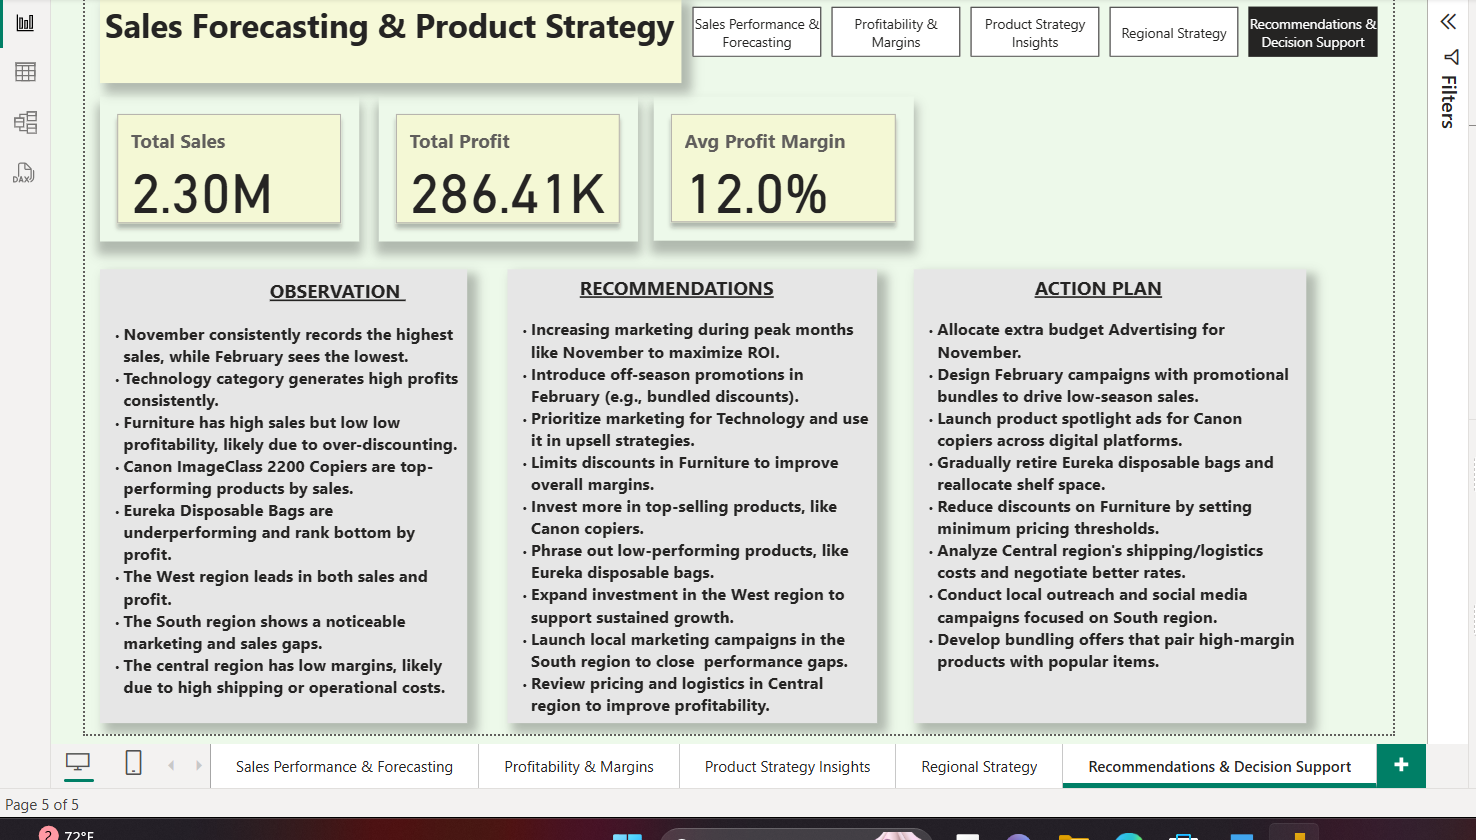

Layout of this report page (visuals, bound fields, positions):
{"tool":"powerbi","page":{"name":"Recommendations & Decision Support","canvas":[1280,720],"ordinal":4},"visuals":[{"type":"cardVisual","fields":{"Data":["Superstore-Cleaned_Data.Total Sales"]},"box":[15.1,96.1,253.9,141.3],"z":0},{"type":"cardVisual","fields":{"Data":["Superstore-Cleaned_Data.Total Profit"]},"box":[286.8,96.1,253.9,141.3],"z":1000},{"type":"cardVisual","fields":{"Data":["Superstore-Cleaned_Data.Avg Profit Margin"]},"box":[556.4,96.6,254.3,140.6],"z":2000},{"type":"textbox","box":[14.7,0,568.6,83.2],"z":3000},{"type":"pageNavigator","box":[594.2,8.2,671,49.4],"z":4000},{"type":"textbox","box":[14.7,265.4,359.5,443.9],"z":5000},{"type":"textbox","box":[413.3,265.4,362,443.9],"z":6000},{"type":"textbox","box":[810.7,265.4,384,443.9],"z":7000}]}

Visuals, with their boxes on the page's 1280x720 design canvas (x1, y1, x2, y2). These are canvas units, not pixel positions in the 1476x840 screenshot, which may show the page scaled, cropped or inside an application window:
cardVisual - Superstore-Cleaned_Data.Total Sales: (x1=15, y1=96, x2=269, y2=237)
cardVisual - Superstore-Cleaned_Data.Total Profit: (x1=287, y1=96, x2=541, y2=237)
cardVisual - Superstore-Cleaned_Data.Avg Profit Margin: (x1=556, y1=97, x2=811, y2=237)
textbox: (x1=15, y1=0, x2=583, y2=83)
pageNavigator: (x1=594, y1=8, x2=1265, y2=58)
textbox: (x1=15, y1=265, x2=374, y2=709)
textbox: (x1=413, y1=265, x2=775, y2=709)
textbox: (x1=811, y1=265, x2=1195, y2=709)
